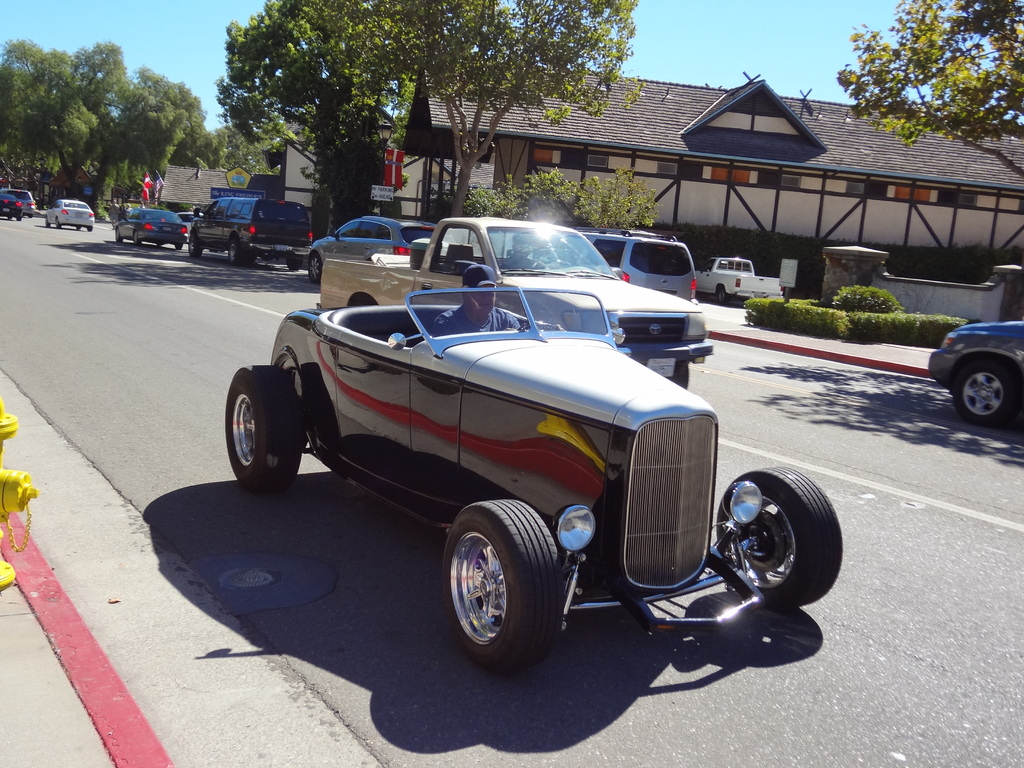mobil: (927, 304, 1024, 446), (694, 255, 786, 310), (106, 204, 187, 245), (41, 196, 93, 225)
